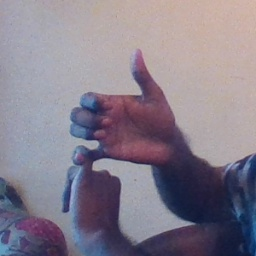S: (53, 41, 185, 220)
